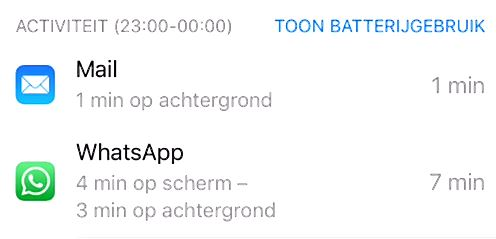activity: (14, 13, 241, 39)
app: (9, 135, 488, 222), (8, 54, 491, 121)
